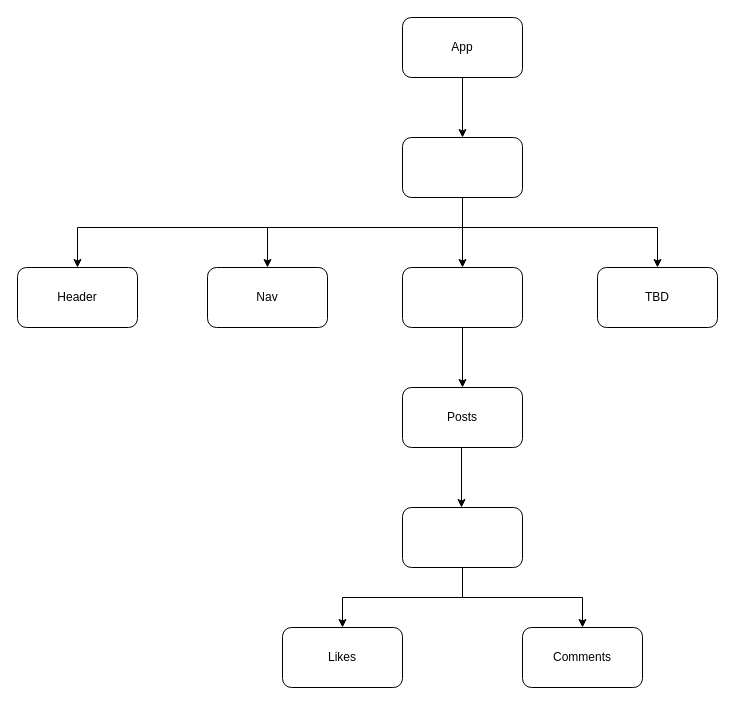
Some shapes in this 735 by 705 pixel diagram are drawn without their labels. Here are the shapes that lost their labels. From the top down, the centre of each, then its label:
At (462,167): "Main".
At (462,297): "Home".
At (462,537): "SinglePost".
